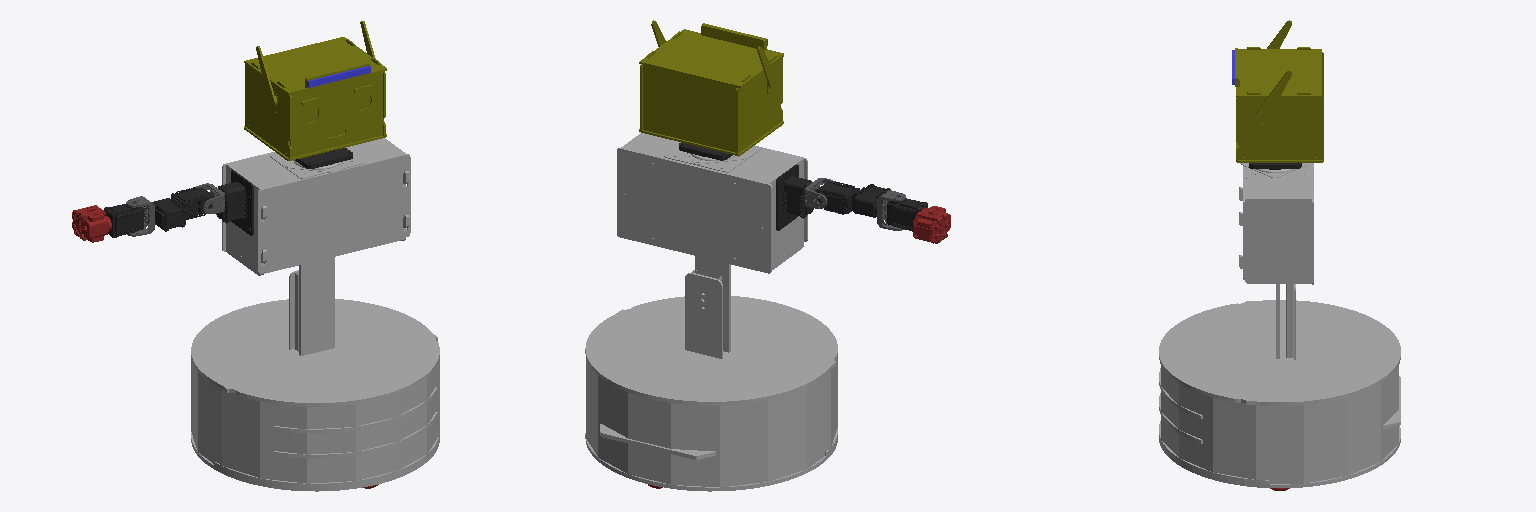
URDF robot description (v2mini):
<?xml version="1.0" ?>
<!-- =================================================================================== -->
<!-- |    This document was autogenerated by xacro from v2mini_robot.urdf.xacro        | -->
<!-- |    EDITING THIS FILE BY HAND IS NOT RECOMMENDED                                 | -->
<!-- =================================================================================== -->
<robot name="v2mini" xmlns:xacro="http://www.ros.org/wiki/xacro">
  <!-- materials -->
  <material name="white">
    <color rgba="0.7 0.7 0.7 1"/>
  </material>
  <material name="blue">
    <color rgba="0.3 0.3 0.9 1"/>
  </material>
  <material name="black">
    <color rgba="0.2 0.2 0.2 1"/>
  </material>
  <material name="grey">
    <color rgba="0.4 0.4 0.4 1"/>
  </material>
  <material name="yellow">
    <color rgba="0.5 0.5 0.1 1"/>
  </material>
  <material name="red">
    <color rgba="0.6 0.2 0.2 1"/>
  </material>
  <!-- v2mini body -->
  <!-- base properties -->
  <!-- wheel properties -->
  <!-- torso properties -->
  <!-- Macro for creating base wheels -->
  <!-- v2mini arm -->
  <!-- macro for the rest of the links -->
  <!-- v2mini head -->
  <!-- r200 sensor -->
  <!-- join the body with arm -->
  <joint name="shoulder" type="fixed">
    <parent link="torso_link"/>
    <child link="arm_link1"/>
    <origin xyz="0 0 0"/>
  </joint>
  <!-- join the body with head -->
  <joint name="neckpan" type="revolute">
    <parent link="torso_link"/>
    <child link="neck_link"/>
    <axis xyz="0 0 1"/>
    <origin xyz="0 0 0"/>
    <limit effort="10" lower="-2.9" upper="2.9" velocity="10"/>
  </joint>
  <!-- **** BASE **** -->
  <link name="base_link">
    <!-- fake inertial values -->
    <inertial>
      <mass value="10"/>
      <inertia ixx="100" ixy="0" ixz="0" iyy="100" iyz="0" izz="100"/>
      <origin/>
    </inertial>
    <visual>
      <origin rpy="0 0 0" xyz="0 0 0.0192"/>
      <geometry>
        <mesh filename="package://v2mini_description/meshes/base/base.dae"/>
      </geometry>
      <material name="white"/>
    </visual>
    <collision>
      <origin rpy="0 0 0" xyz="0 0 0.066"/>
      <geometry>
        <cylinder length="0.132" radius="0.175"/>
      </geometry>
    </collision>
  </link>
  <link name="front_wheel">
    <visual>
      <origin rpy="0 0 0.0" xyz="0 0 0"/>
      <geometry>
        <mesh filename="package://v2mini_description/meshes/base/base_wheel.dae"/>
      </geometry>
      <material name="red"/>
    </visual>
    <inertial>
      <origin rpy="0 0 0" xyz="0 0 0"/>
      <mass value="1"/>
      <inertia ixx="1.0" ixy="0.0" ixz="0.0" iyy="1.0" iyz="0.0" izz="1.0"/>
    </inertial>
  </link>
  <joint name="front_axel" type="continuous">
    <parent link="base_link"/>
    <child link="front_wheel"/>
    <origin xyz="-0.0 -0.1405 0.03"/>
    <axis xyz="0.0 1 0"/>
  </joint>
  <link name="back_wheel">
    <visual>
      <origin rpy="0 0 3.14159" xyz="0 0 0"/>
      <geometry>
        <mesh filename="package://v2mini_description/meshes/base/base_wheel.dae"/>
      </geometry>
      <material name="red"/>
    </visual>
    <inertial>
      <origin rpy="0 0 0" xyz="0 0 0"/>
      <mass value="1"/>
      <inertia ixx="1.0" ixy="0.0" ixz="0.0" iyy="1.0" iyz="0.0" izz="1.0"/>
    </inertial>
  </link>
  <joint name="back_axel" type="continuous">
    <parent link="base_link"/>
    <child link="back_wheel"/>
    <origin xyz="0.0 0.1405 0.03"/>
    <axis xyz="0.0 1 0"/>
  </joint>
  <link name="right_wheel">
    <visual>
      <origin rpy="0 0 -1.570795" xyz="0 0 0"/>
      <geometry>
        <mesh filename="package://v2mini_description/meshes/base/base_wheel.dae"/>
      </geometry>
      <material name="red"/>
    </visual>
    <inertial>
      <origin rpy="0 0 0" xyz="0 0 0"/>
      <mass value="1"/>
      <inertia ixx="1.0" ixy="0.0" ixz="0.0" iyy="1.0" iyz="0.0" izz="1.0"/>
    </inertial>
  </link>
  <joint name="right_axel" type="continuous">
    <parent link="base_link"/>
    <child link="right_wheel"/>
    <origin xyz="-0.1405 -0.0 0.03"/>
    <axis xyz="1.0 0 0"/>
  </joint>
  <link name="left_wheel">
    <visual>
      <origin rpy="0 0 1.570795" xyz="0 0 0"/>
      <geometry>
        <mesh filename="package://v2mini_description/meshes/base/base_wheel.dae"/>
      </geometry>
      <material name="red"/>
    </visual>
    <inertial>
      <origin rpy="0 0 0" xyz="0 0 0"/>
      <mass value="1"/>
      <inertia ixx="1.0" ixy="0.0" ixz="0.0" iyy="1.0" iyz="0.0" izz="1.0"/>
    </inertial>
  </link>
  <joint name="left_axel" type="continuous">
    <parent link="base_link"/>
    <child link="left_wheel"/>
    <origin xyz="0.1405 0.0 0.03"/>
    <axis xyz="1.0 0 0"/>
  </joint>
  <!-- **** TORSO **** -->
  <link name="torso_link">
    <!-- fake inertial values -->
    <inertial>
      <mass value="5"/>
      <inertia ixx="100" ixy="0" ixz="0" iyy="100" iyz="0" izz="100"/>
      <origin/>
    </inertial>
    <visual>
      <origin rpy="0 0 0" xyz="0 0 0"/>
      <geometry>
        <mesh filename="package://v2mini_description/meshes/torso/torso.dae"/>
      </geometry>
      <material name="white"/>
    </visual>
  </link>
  <joint name="torso_slide" type="prismatic">
    <parent link="base_link"/>
    <child link="torso_link"/>
    <origin xyz="0 0 0.0192"/>
    <axis xyz="0 0 1"/>
    <limit effort="10" lower="-0.09" upper="0" velocity="0.5"/>
  </joint>
  <link name="arm_link1">
    <visual>
      <origin rpy="0 0 0" xyz="0 0 0"/>
      <geometry>
        <mesh filename="package://v2mini_description/meshes/arm/arm_link1.dae"/>
      </geometry>
      <material name="black"/>
    </visual>
    <collision>
      <origin rpy="0 0 0" xyz="0 0 0"/>
      <geometry>
        <mesh filename="package://v2mini_description/meshes/arm/arm_link1.dae"/>
      </geometry>
    </collision>
    <inertial>
      <origin rpy="0 0 0" xyz="0 0 0"/>
      <mass value="0.01"/>
      <inertia ixx="1.0" ixy="0.0" ixz="0.0" iyy="1.0" iyz="0.0" izz="1.0"/>
    </inertial>
  </link>
  <!-- first additional joint at offset -->
  <link name="arm_link2">
    <visual>
      <origin rpy="0 3.14159 0" xyz="0 0 0"/>
      <geometry>
        <mesh filename="package://v2mini_description/meshes/arm/arm_link2.dae"/>
      </geometry>
      <material name="grey"/>
    </visual>
    <collision>
      <origin rpy="0 3.14159 0" xyz="0 0 0"/>
      <geometry>
        <mesh filename="package://v2mini_description/meshes/arm/arm_link2.dae"/>
      </geometry>
    </collision>
    <inertial>
      <origin rpy="0 0 0" xyz="0 0 0"/>
      <mass value="0.01"/>
      <inertia ixx="1.0" ixy="0.0" ixz="0.0" iyy="1.0" iyz="0.0" izz="1.0"/>
    </inertial>
  </link>
  <joint name="arm_joint1" type="revolute">
    <parent link="arm_link1"/>
    <child link="arm_link2"/>
    <origin rpy="3.14159 3.14159 0" xyz="-0.158825 -0.002 0.407507"/>
    <limit effort="1000.0" lower="-0.2" upper="2.85" velocity="0.1"/>
  </joint>
  <link name="arm_link3">
    <visual>
      <origin rpy="0 -1.570795  -1.570795" xyz="0 0 0"/>
      <geometry>
        <mesh filename="package://v2mini_description/meshes/arm/arm_link3.dae"/>
      </geometry>
      <material name="black"/>
    </visual>
    <collision>
      <origin rpy="0 -1.570795  -1.570795" xyz="0 0 0"/>
      <geometry>
        <mesh filename="package://v2mini_description/meshes/arm/arm_link3.dae"/>
      </geometry>
    </collision>
    <inertial>
      <origin rpy="0 0 0" xyz="0 0 0"/>
      <mass value="0.01"/>
      <inertia ixx="1.0" ixy="0.0" ixz="0.0" iyy="1.0" iyz="0.0" izz="1.0"/>
    </inertial>
  </link>
  <joint name="arm_joint2" type="revolute">
    <parent link="arm_link2"/>
    <child link="arm_link3"/>
    <origin rpy="1.570795 0 4.712385" xyz="0.026 0 0"/>
    <axis xyz="-1 0 0"/>
    <limit effort="1000.0" lower="-0.3" upper="1.6" velocity="0.1"/>
  </joint>
  <link name="arm_link4">
    <visual>
      <origin rpy="1.570795 3.14159  0" xyz="0 0 0"/>
      <geometry>
        <mesh filename="package://v2mini_description/meshes/arm/arm_link4.dae"/>
      </geometry>
      <material name="grey"/>
    </visual>
    <collision>
      <origin rpy="1.570795 3.14159  0" xyz="0 0 0"/>
      <geometry>
        <mesh filename="package://v2mini_description/meshes/arm/arm_link4.dae"/>
      </geometry>
    </collision>
    <inertial>
      <origin rpy="0 0 0" xyz="0 0 0"/>
      <mass value="0.01"/>
      <inertia ixx="1.0" ixy="0.0" ixz="0.0" iyy="1.0" iyz="0.0" izz="1.0"/>
    </inertial>
  </link>
  <joint name="arm_joint3" type="revolute">
    <parent link="arm_link3"/>
    <child link="arm_link4"/>
    <origin rpy="0 1.570795 0" xyz=" 0 0 -0.0855"/>
    <axis xyz="1 0 0"/>
    <limit effort="1000.0" lower="-3" upper="3" velocity="0.1"/>
  </joint>
  <link name="arm_link5">
    <visual>
      <origin rpy="-1.570795 0 -1.570795" xyz="0 0 0"/>
      <geometry>
        <mesh filename="package://v2mini_description/meshes/arm/arm_link5.dae"/>
      </geometry>
      <material name="black"/>
    </visual>
    <collision>
      <origin rpy="-1.570795 0 -1.570795" xyz="0 0 0"/>
      <geometry>
        <mesh filename="package://v2mini_description/meshes/arm/arm_link5.dae"/>
      </geometry>
    </collision>
    <inertial>
      <origin rpy="0 0 0" xyz="0 0 0"/>
      <mass value="0.01"/>
      <inertia ixx="1.0" ixy="0.0" ixz="0.0" iyy="1.0" iyz="0.0" izz="1.0"/>
    </inertial>
  </link>
  <joint name="arm_joint4" type="revolute">
    <parent link="arm_link4"/>
    <child link="arm_link5"/>
    <origin rpy=" -1.570795 0 1.570795" xyz="0.026 0 0"/>
    <axis xyz="-1 0 0"/>
    <limit effort="1000.0" lower="-1.5" upper="1.5" velocity="0.1"/>
  </joint>
  <link name="arm_link6">
    <visual>
      <origin rpy="1.570795 1.570795 0" xyz="0 0 0"/>
      <geometry>
        <mesh filename="package://v2mini_description/meshes/arm/arm_link6.dae"/>
      </geometry>
      <material name="red"/>
    </visual>
    <collision>
      <origin rpy="1.570795 1.570795 0" xyz="0 0 0"/>
      <geometry>
        <mesh filename="package://v2mini_description/meshes/arm/arm_link6.dae"/>
      </geometry>
    </collision>
    <inertial>
      <origin rpy="0 0 0" xyz="0 0 0"/>
      <mass value="0.01"/>
      <inertia ixx="1.0" ixy="0.0" ixz="0.0" iyy="1.0" iyz="0.0" izz="1.0"/>
    </inertial>
  </link>
  <joint name="arm_joint5" type="revolute">
    <parent link="arm_link5"/>
    <child link="arm_link6"/>
    <origin rpy="-1.570795 -1.570795 0" xyz="0  0 -0.0415"/>
    <axis xyz="-1 0 0"/>
    <limit effort="1000.0" lower="-3" upper="3" velocity="0.1"/>
  </joint>
  <joint name="ee_joint" type="fixed">
    <parent link="arm_link6"/>
    <child link="ee_link"/>
    <origin rpy="0 0 0" xyz="0 0 0"/>
  </joint>
  <!-- Add end effector -->
  <link name="ee_link">
    <collision>
      <geometry>
        <box size="0.01 0.01 0.01"/>
      </geometry>
      <origin rpy="0 0 0" xyz="0 0 0"/>
    </collision>
    <inertial>
      <origin rpy="0 0 0" xyz="0 0 0"/>
      <mass value="1"/>
      <inertia ixx="1.0" ixy="0.0" ixz="0.0" iyy="1.0" iyz="0.0" izz="1.0"/>
    </inertial>
  </link>
  <link name="neck_link">
    <visual>
      <origin rpy="0 0 0" xyz="0 0 0"/>
      <geometry>
        <mesh filename="package://v2mini_description/meshes/head/neck.dae"/>
      </geometry>
      <material name="black"/>
    </visual>
    <inertial>
      <origin rpy="0 0 0" xyz="0 0 0"/>
      <mass value="1"/>
      <inertia ixx="1.0" ixy="0.0" ixz="0.0" iyy="1.0" iyz="0.0" izz="1.0"/>
    </inertial>
  </link>
  <link name="head_link">
    <visual>
      <origin rpy="0 0 0" xyz="0 0 0"/>
      <geometry>
        <mesh filename="package://v2mini_description/meshes/head/head.dae"/>
      </geometry>
      <material name="yellow"/>
    </visual>
    <inertial>
      <origin rpy="0 0 0" xyz="0 0 0"/>
      <mass value="1"/>
      <inertia ixx="1.0" ixy="0.0" ixz="0.0" iyy="1.0" iyz="0.0" izz="1.0"/>
    </inertial>
  </link>
  <joint name="neck_tilt" type="revolute">
    <parent link="neck_link"/>
    <child link="head_link"/>
    <axis xyz="1 0 0"/>
    <origin xyz="0 0 0.495215"/>
    <limit effort="1000.0" lower="0.3" upper="-0.5" velocity="0.1"/>
  </joint>
  <link name="camera_link">
    <visual>
      <origin xyz="0 0 0"/>
      <geometry>
        <box size="0.102 0.0038 0.0095"/>
      </geometry>
      <material name="blue"/>
    </visual>
  </link>
  <joint name="camera_joint" type="fixed">
    <origin rpy="0 0 0" xyz="0 -0.0668 0.0877"/>
    <parent link="head_link"/>
    <child link="camera_link"/>
  </joint>
  <link name="camera_rgb_frame"/>
  <link name="camera_rgb_optical_frame"/>
  <link name="camera_depth_optical_frame"/>
  <link name="camera_depth_frame"/>
  <joint name="camera_rgb_joint" type="fixed">
    <origin rpy="-1.570795 0 0" xyz="0 0 0"/>
    <parent link="camera_link"/>
    <child link="camera_rgb_frame"/>
  </joint>
  <joint name="camera_rgb_optical_joint" type="fixed">
    <origin rpy="0 0 0" xyz="0 0 0"/>
    <parent link="camera_rgb_frame"/>
    <child link="camera_rgb_optical_frame"/>
  </joint>
  <joint name="camera_depth_joint" type="fixed">
    <origin rpy="0 0 0" xyz="0 0 0"/>
    <parent link="camera_rgb_frame"/>
    <child link="camera_depth_frame"/>
  </joint>
  <joint name="camera_depth_optical_joint" type="fixed">
    <origin rpy="-1.570795 0 0" xyz="0 0 0"/>
    <parent link="camera_depth_frame"/>
    <child link="camera_depth_optical_frame"/>
  </joint>
</robot>

--- Render facts (derived) ---
The picture shows the robot from 3 angles, left to right: view 1: azimuth 30°, elevation 25°; view 2: azimuth 150°, elevation 25°; view 3: azimuth 270°, elevation 25°; orthographic projection.
Model v2mini with 20 links and 19 joints (7 revolute, 4 continuous, 1 prismatic, 7 fixed), rooted at base_link, posed all joints at 0.
Visible links, largest first — view 1: base_link, torso_link, head_link, arm_link3, arm_link1, arm_link6, arm_link5, neck_link, arm_link4; view 2: base_link, torso_link, head_link, arm_link3, arm_link1, arm_link6, arm_link5, arm_link4; view 3: base_link, head_link, torso_link.
Link boxes in pixels (bbox=[...]): base_link: bbox=[191, 270, 439, 491]; torso_link: bbox=[222, 138, 410, 355]; head_link: bbox=[244, 21, 386, 160]; arm_link3: bbox=[152, 187, 214, 231]; arm_link1: bbox=[216, 170, 253, 235]; arm_link6: bbox=[72, 205, 111, 242]; arm_link5: bbox=[104, 203, 143, 237]; neck_link: bbox=[295, 148, 352, 168]; arm_link4: bbox=[126, 196, 154, 236]; base_link: bbox=[585, 270, 837, 491]; torso_link: bbox=[617, 133, 807, 352]; head_link: bbox=[639, 20, 783, 155]; arm_link3: bbox=[816, 181, 890, 217]; arm_link1: bbox=[776, 164, 813, 230]; arm_link6: bbox=[913, 206, 950, 243]; arm_link5: bbox=[887, 197, 927, 231]; arm_link4: bbox=[877, 190, 905, 230]; base_link: bbox=[1159, 284, 1400, 487]; head_link: bbox=[1235, 20, 1323, 162]; torso_link: bbox=[1239, 163, 1313, 358].
Bounding box of the posed robot: 0.5528 × 0.35 × 0.6367 m (x, y, z).
14 mesh visuals loaded from 11 distinct referenced files (11 Collada DAE).